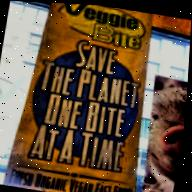boar: (135, 80, 188, 192)
